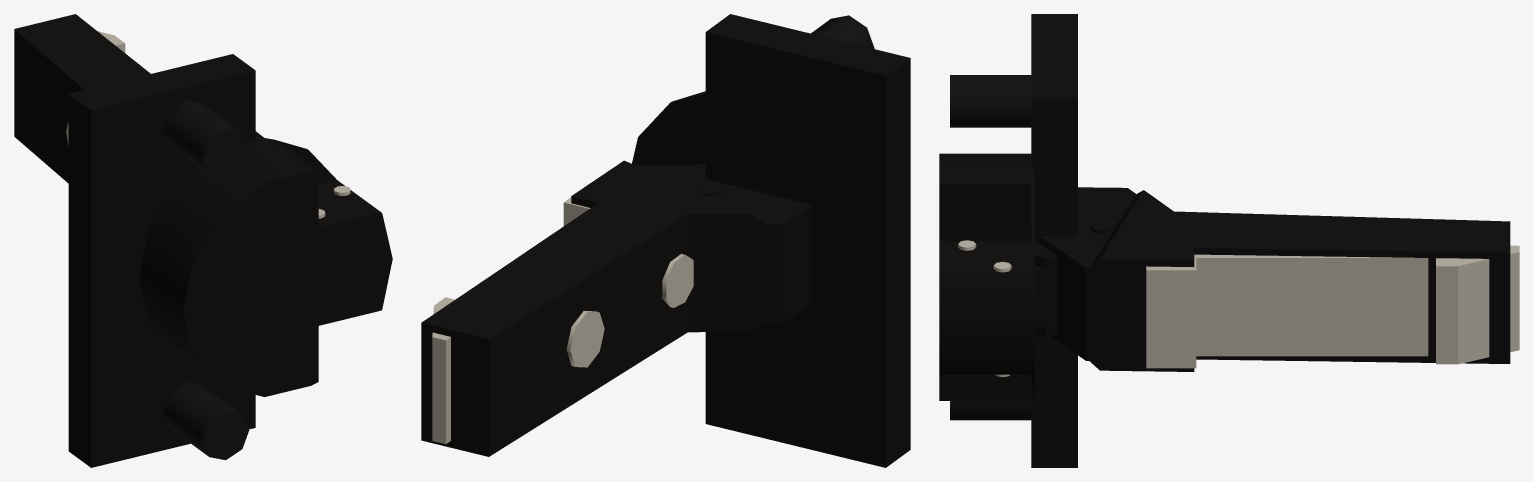
3 renders of one model, left to right at view 1: azimuth 30°, elevation 25°; view 2: azimuth 150°, elevation 25°; view 3: azimuth 270°, elevation 25°, orthographic. The views are drawn at different scales.
Parts seen in each view (by area): view 1: bau0016962400-1, bau0016879137-2; view 2: bau0016962400-1, bau0016879137-2, bau0019426112-1; view 3: bau0016962400-1, bau0016879137-2, bau0019426112-1, bau0015167363-1.
Part boxes in pixels (x1,y1,x2,y2): bau0016962400-1: [68, 54, 392, 467]; bau0016879137-2: [14, 14, 263, 183]; bau0016962400-1: [632, 14, 910, 467]; bau0016879137-2: [421, 160, 811, 456]; bau0019426112-1: [432, 183, 590, 444]; bau0016962400-1: [939, 14, 1077, 467]; bau0016879137-2: [1039, 187, 1510, 371]; bau0019426112-1: [1146, 245, 1519, 368]; bau0015167363-1: [1035, 243, 1057, 336].
Size of the model in its own units: 42.92 by 57 by 80.8.
